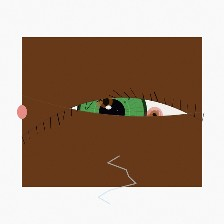foreign_body_visible: (84, 84, 128, 119)
